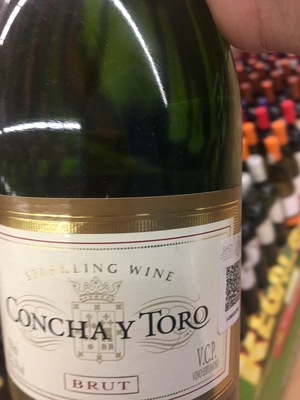brut: (1, 11, 245, 400)
